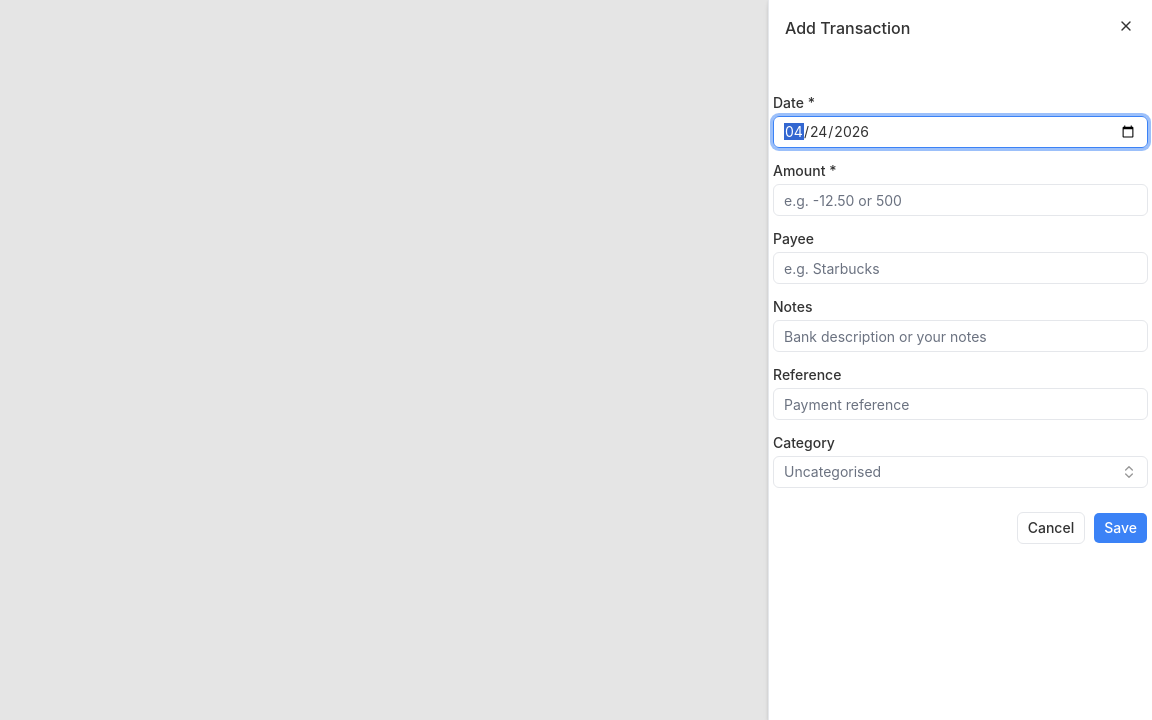
Test: TransactionFormSheet — create mode › blocks submit when date is missing
// Clear the date field
Clear the date field with test id "tx-date" at (960, 132), box top-left (773, 116), bottom-right (1148, 148)
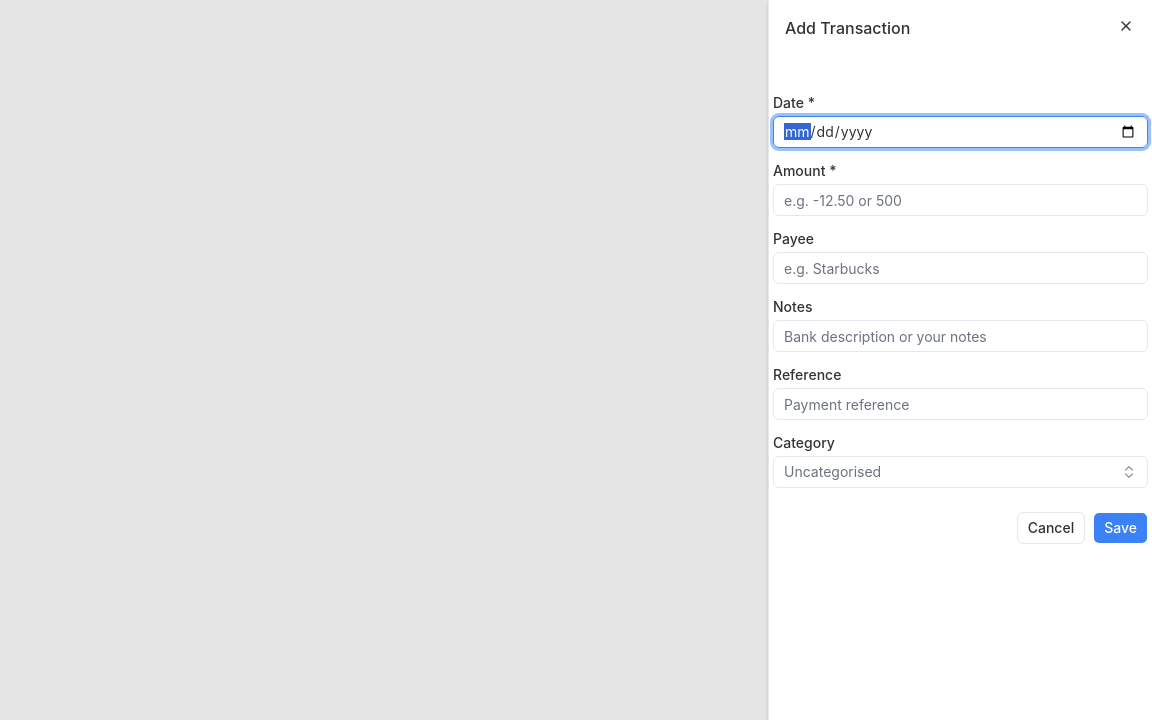
// Set a valid amount
Type "-10" into the number field with test id "tx-amount" at (960, 200), box top-left (773, 184), bottom-right (1148, 216)
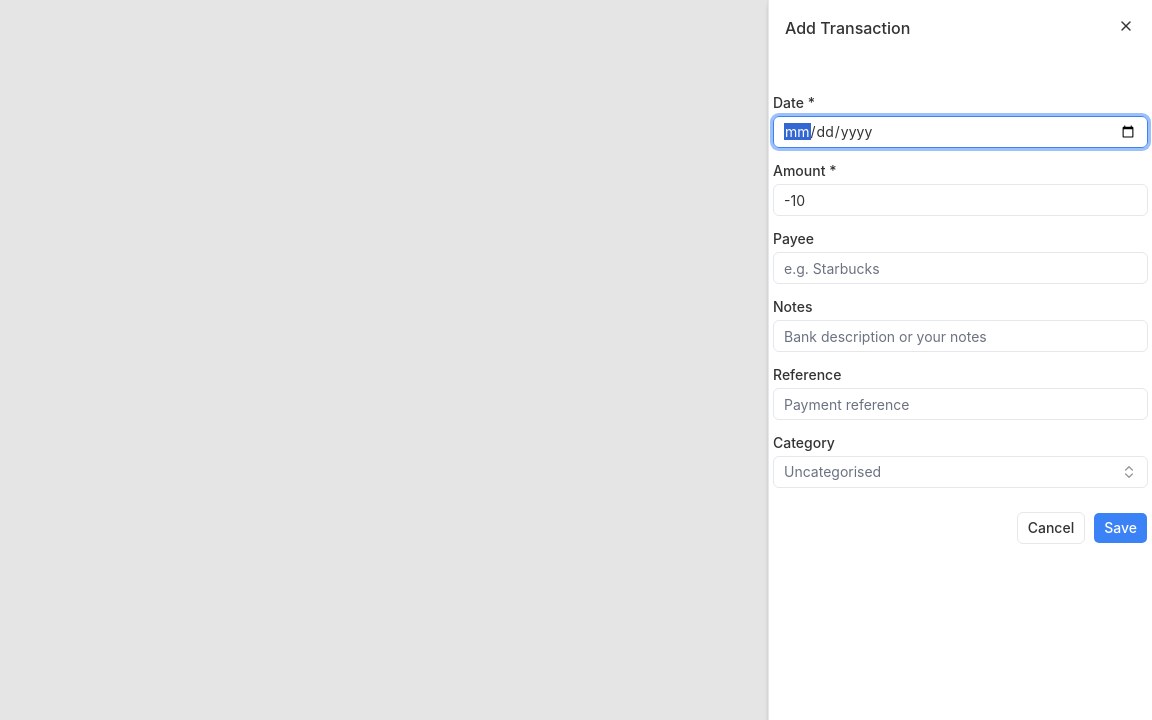
Click the button with test id "tx-save" at (1121, 528), box top-left (1093, 512), bottom-right (1148, 544)
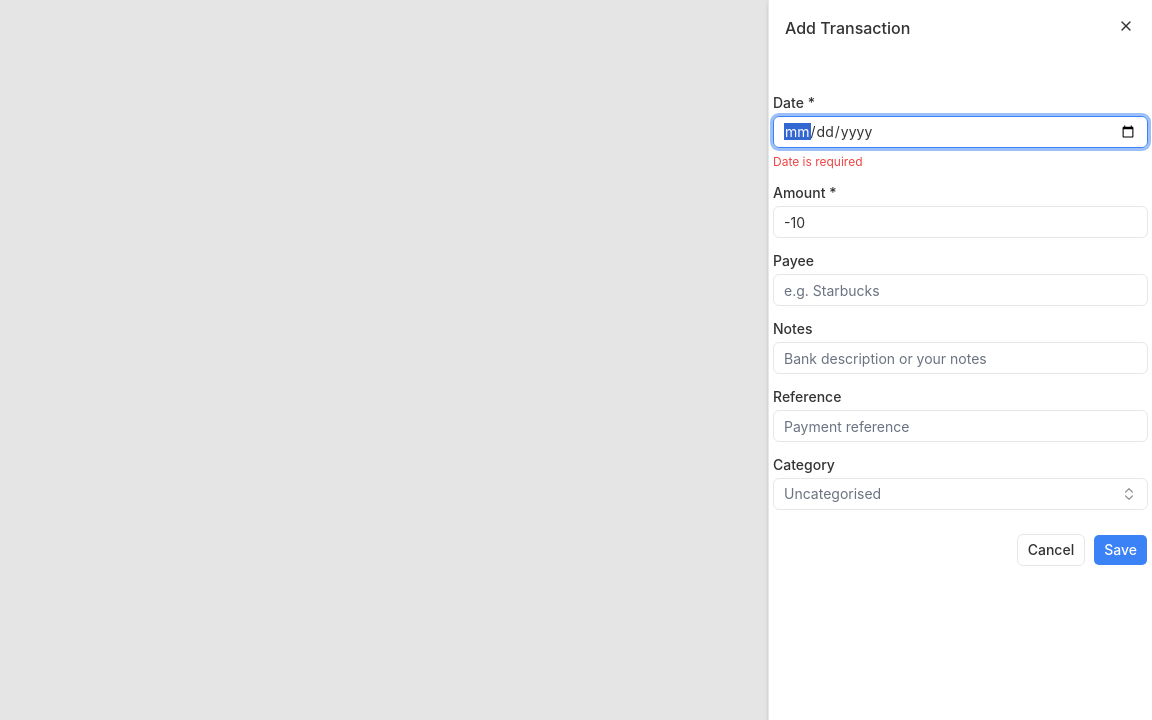
expect the text "Date is required" is shown: met, box top-left (773, 154), bottom-right (862, 169)
